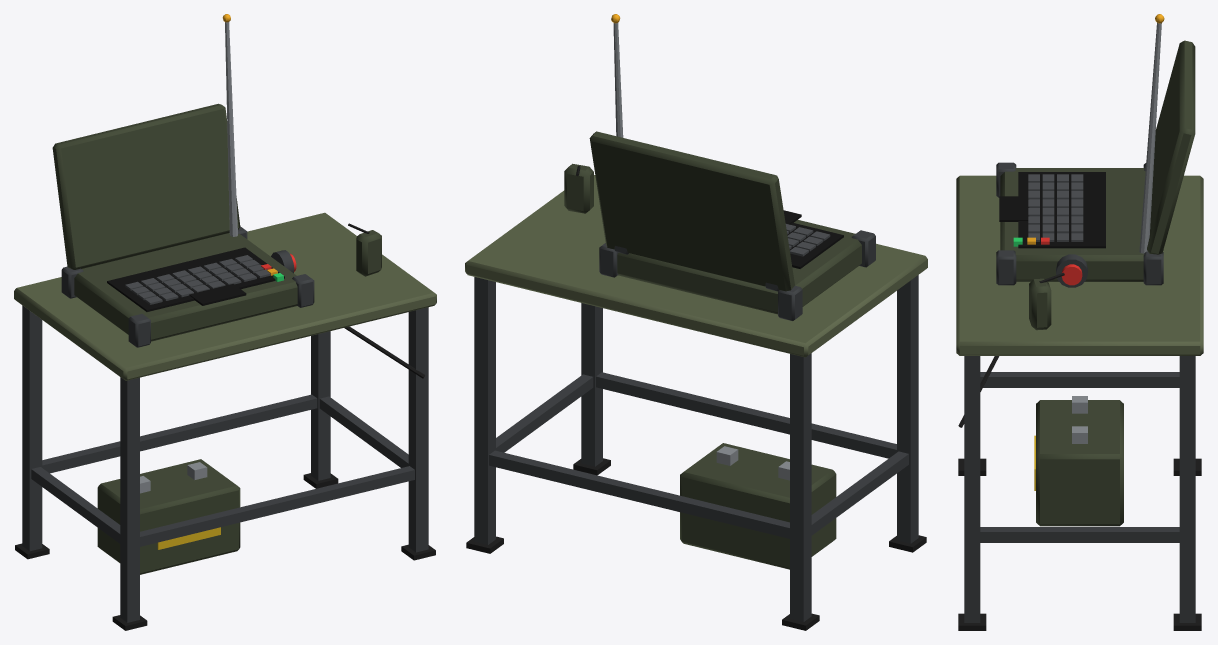
The model's file is SM_Terminal_Refuerzos.fbx.
3 renders of one model, left to right at view 1: azimuth 30°, elevation 25°; view 2: azimuth 150°, elevation 25°; view 3: azimuth 270°, elevation 25°, orthographic. The views are drawn at different scales.
Visible parts, largest first — view 1: SM_Terminal_Refuerzos; view 2: SM_Terminal_Refuerzos; view 3: SM_Terminal_Refuerzos.
Part boxes in pixels (left/top/right/bottom): SM_Terminal_Refuerzos: left=14, top=14, right=436, bottom=630; SM_Terminal_Refuerzos: left=465, top=14, right=927, bottom=630; SM_Terminal_Refuerzos: left=956, top=14, right=1203, bottom=630.
Size of what is drawn, in the model's own units: 1 by 0.62 by 1.53.
